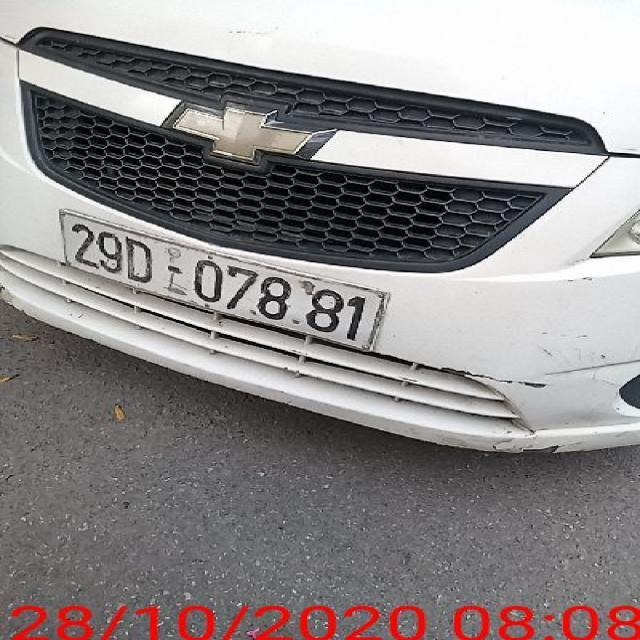bien_so_oto: (56, 206, 394, 353)
